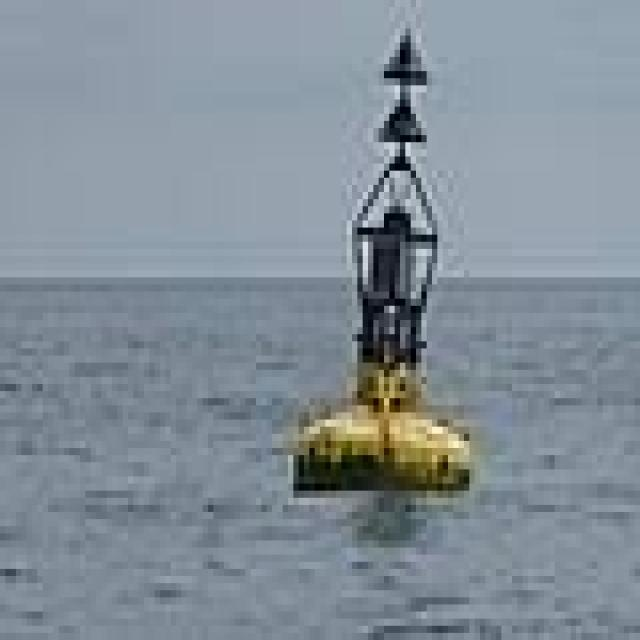buoy: (291, 1, 484, 519)
